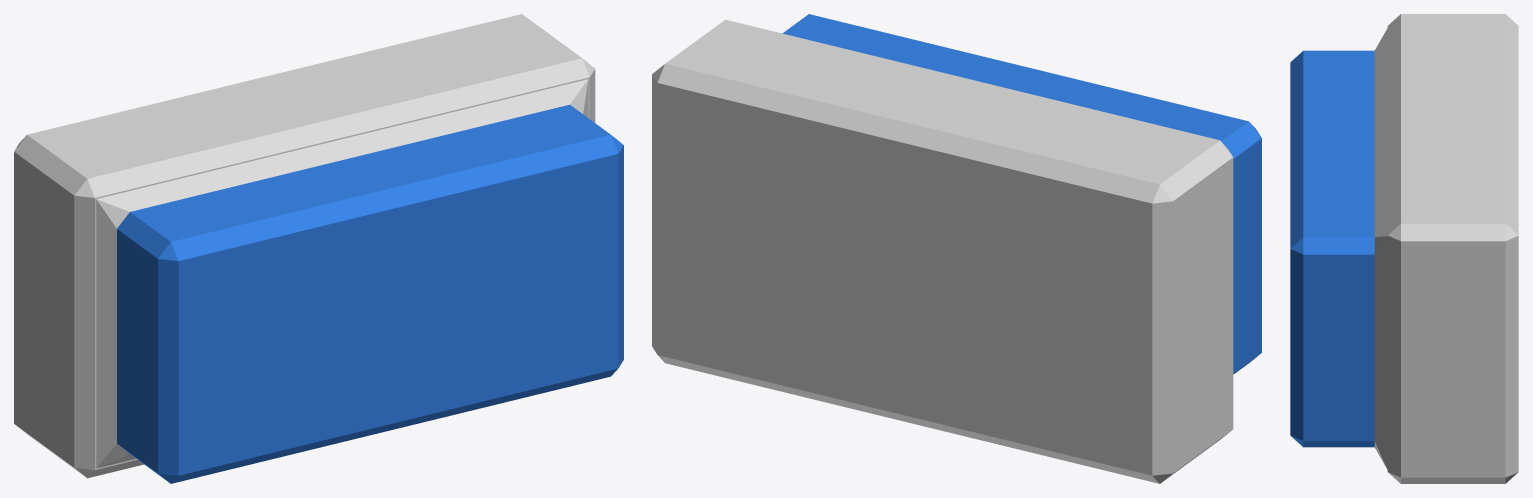
File: Button.fbx
The picture shows the model from 3 angles, left to right: view 1: azimuth 30°, elevation 25°; view 2: azimuth 150°, elevation 25°; view 3: azimuth 270°, elevation 25°; orthographic projection. The views are drawn at different scales.
Parts seen in each view (by area): view 1: Button; view 2: Button; view 3: Button.
Boxes of the visible parts, x1,y1,x2,y2 form: Button: (14, 14, 623, 483); Button: (652, 14, 1261, 483); Button: (1290, 14, 1518, 483).
Size of the model in its own units: 147 by 80.54 by 64.08.
